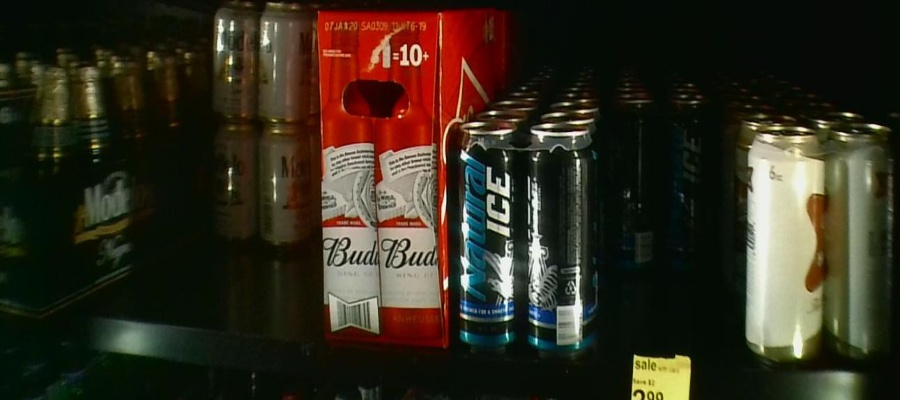bottle: (318, 12, 452, 353), (747, 129, 896, 366), (458, 123, 602, 359), (210, 4, 318, 251), (609, 96, 719, 276)
